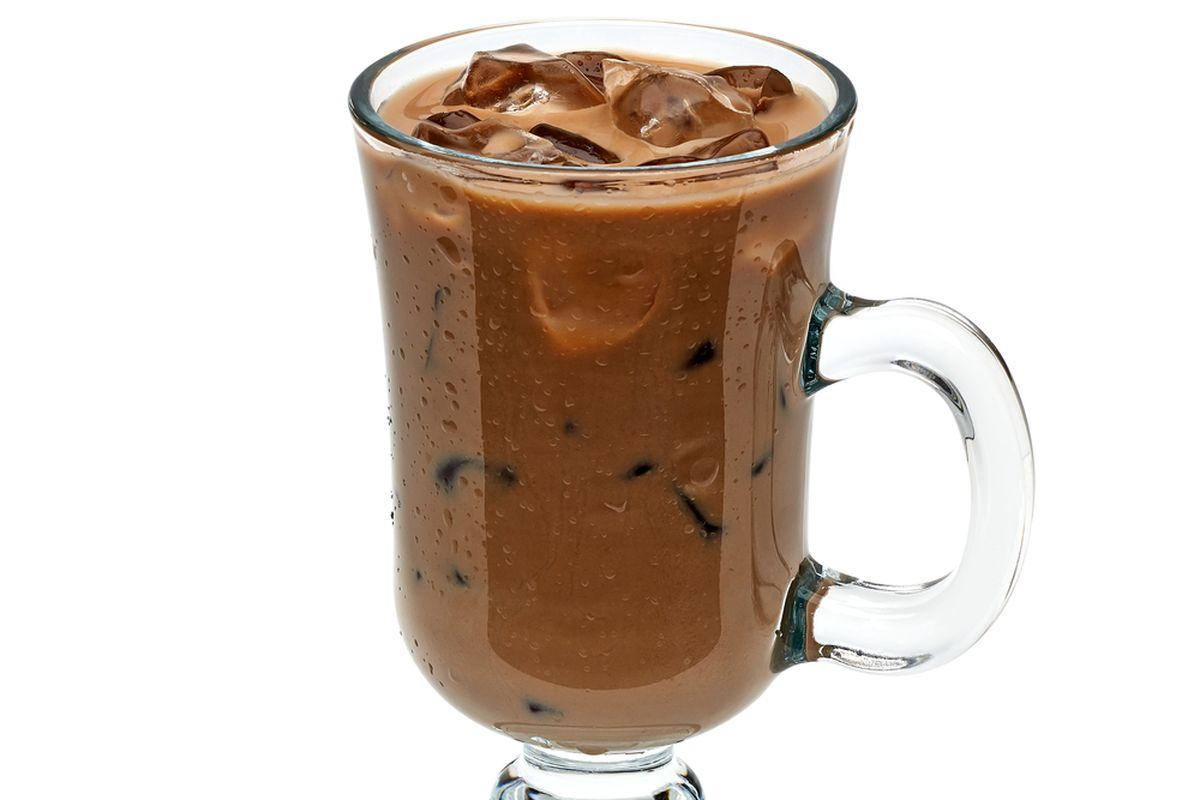produk_susu: (406, 39, 772, 692)
